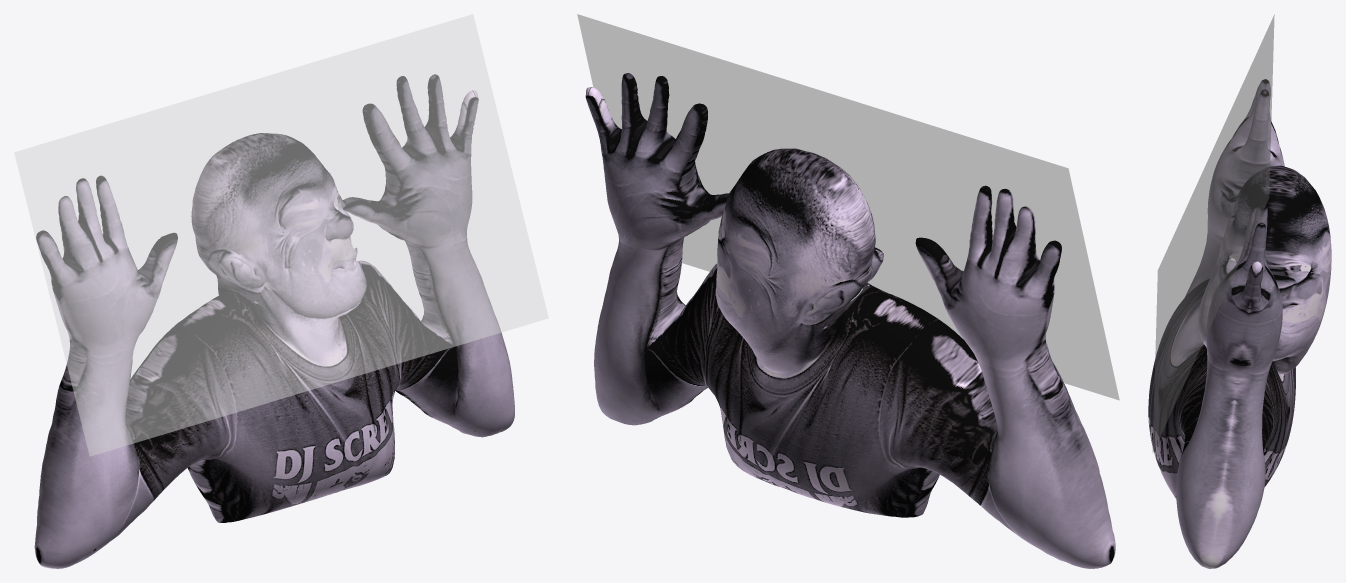
3 views of the same model, side by side, from view 1: azimuth 30°, elevation 25°; view 2: azimuth 150°, elevation 25°; view 3: azimuth 270°, elevation 25° (orthographic). The views are drawn at different scales.
Visible parts, largest first — view 1: Plane, Mesh_0.002; view 2: Mesh_0.002, Plane; view 3: Mesh_0.002, Plane.
Boxes of the visible parts, x1,y1,x2,y2 form: Plane: (14, 14, 548, 456); Mesh_0.002: (34, 74, 514, 568); Mesh_0.002: (585, 73, 1115, 568); Plane: (577, 14, 1119, 400); Mesh_0.002: (1148, 79, 1331, 568); Plane: (1152, 14, 1274, 452).
Bounding box in the file's own units: 7.82 × 6.6 × 2.73.
Materials: 2 (1 with a texture image).
